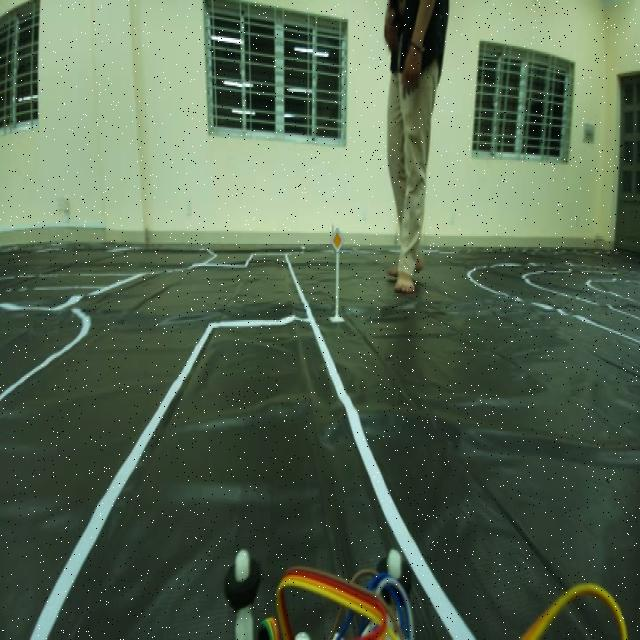priority: (331, 224, 348, 253)
